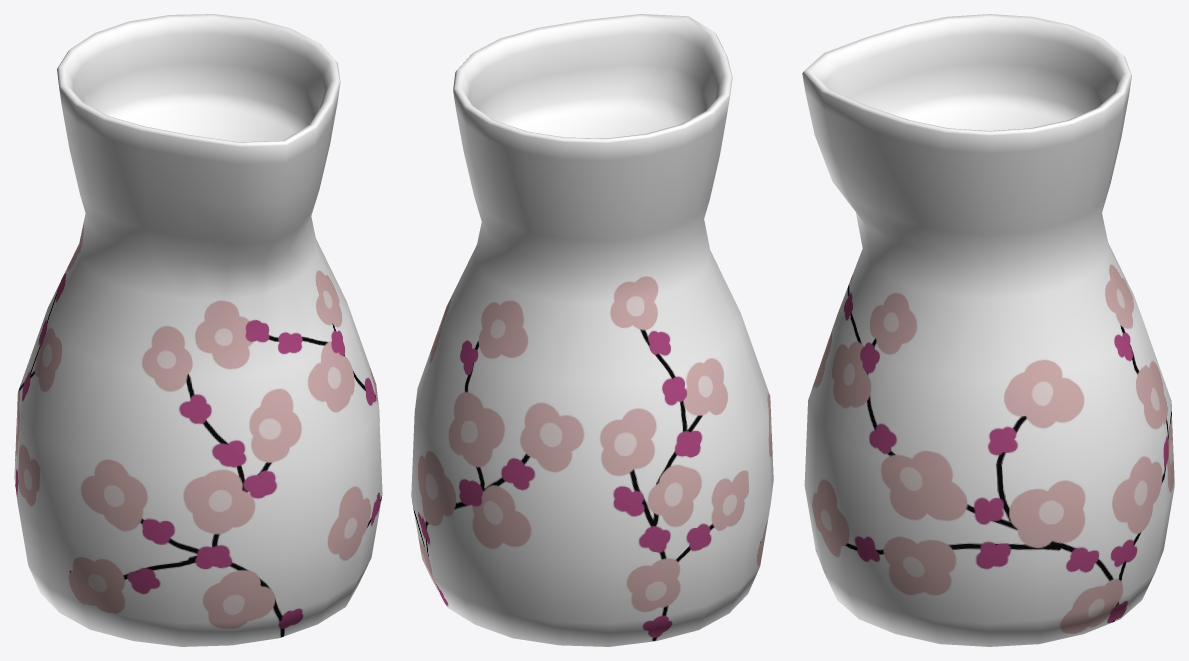
File: sake vrč fbx- negativni lik.fbx
3 renders of one model, left to right at view 1: azimuth 30°, elevation 25°; view 2: azimuth 150°, elevation 25°; view 3: azimuth 270°, elevation 25°, orthographic.
Visible parts, largest first — view 1: sake vrc; view 2: sake vrc; view 3: sake vrc.
Part boxes in pixels (x1,y1,x2,y2): sake vrc: [14, 14, 382, 646]; sake vrc: [411, 14, 773, 646]; sake vrc: [802, 14, 1174, 646].
Bounding box in the file's own units: 19.84 × 29.95 × 19.98.
Materials: 1 (1 with a texture image).
